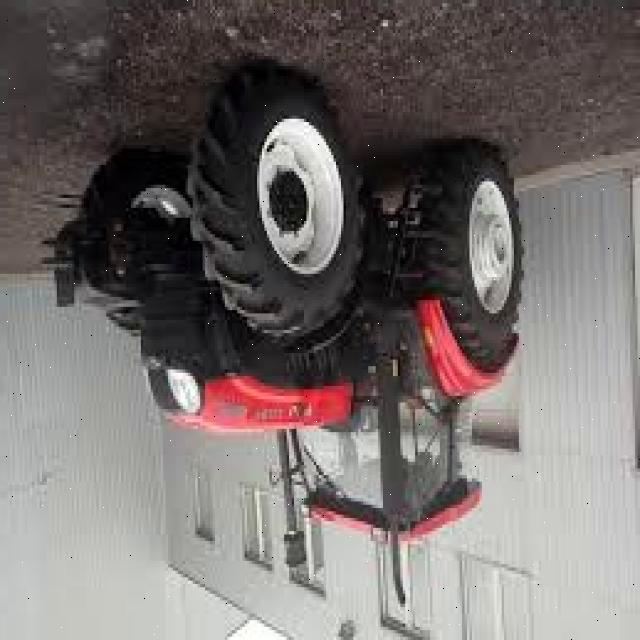Tratores - v5 YOLO V8L 2024-11-13: (28, 49, 534, 606)
